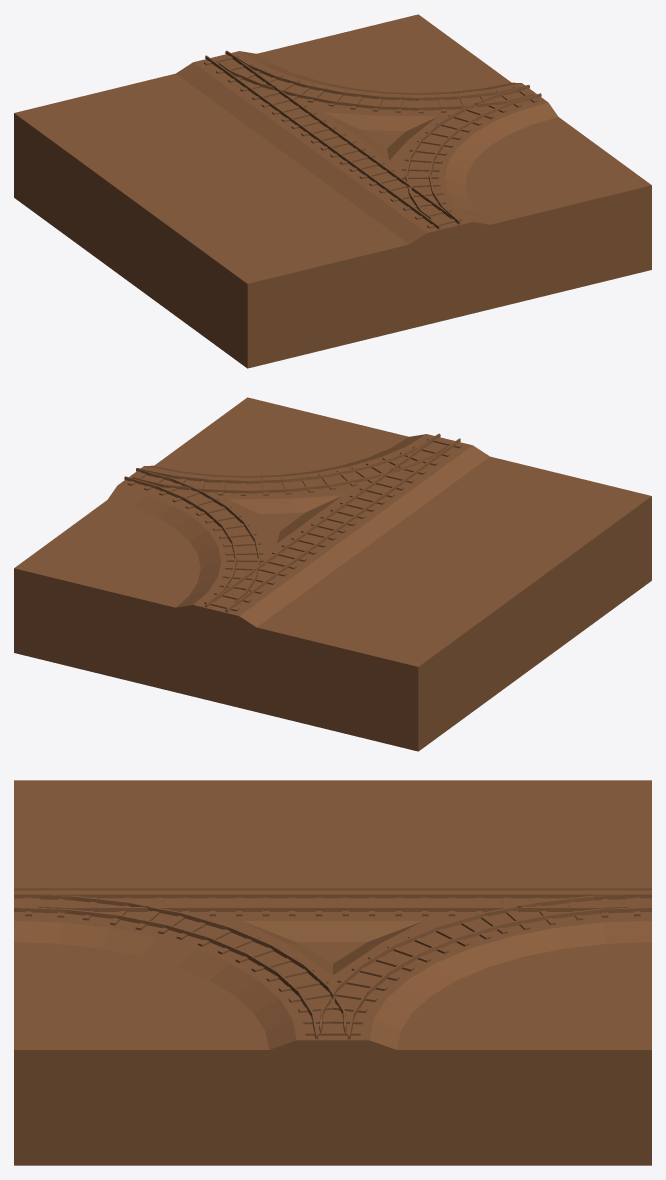
Rendered from tile-rail-t.glb.
The picture shows the model from 3 angles, top to bottom: view 1: azimuth 30°, elevation 25°; view 2: azimuth 150°, elevation 25°; view 3: azimuth 270°, elevation 25°; orthographic projection. The views are drawn at different scales.
Visible parts, largest first — view 1: tile-rail-t; view 2: tile-rail-t; view 3: tile-rail-t.
Boxes of the visible parts, box(x1,y1,x2,y2) form: tile-rail-t: box(14, 14, 651, 368); tile-rail-t: box(14, 397, 651, 751); tile-rail-t: box(14, 780, 651, 1165).
Bounding box in the file's own units: 30 × 6.75 × 30.
